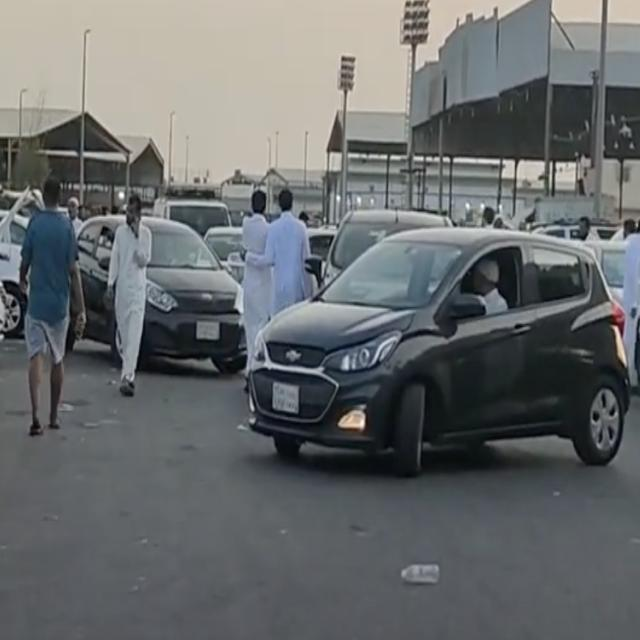license_plate: (272, 382, 301, 414), (196, 320, 220, 342)
